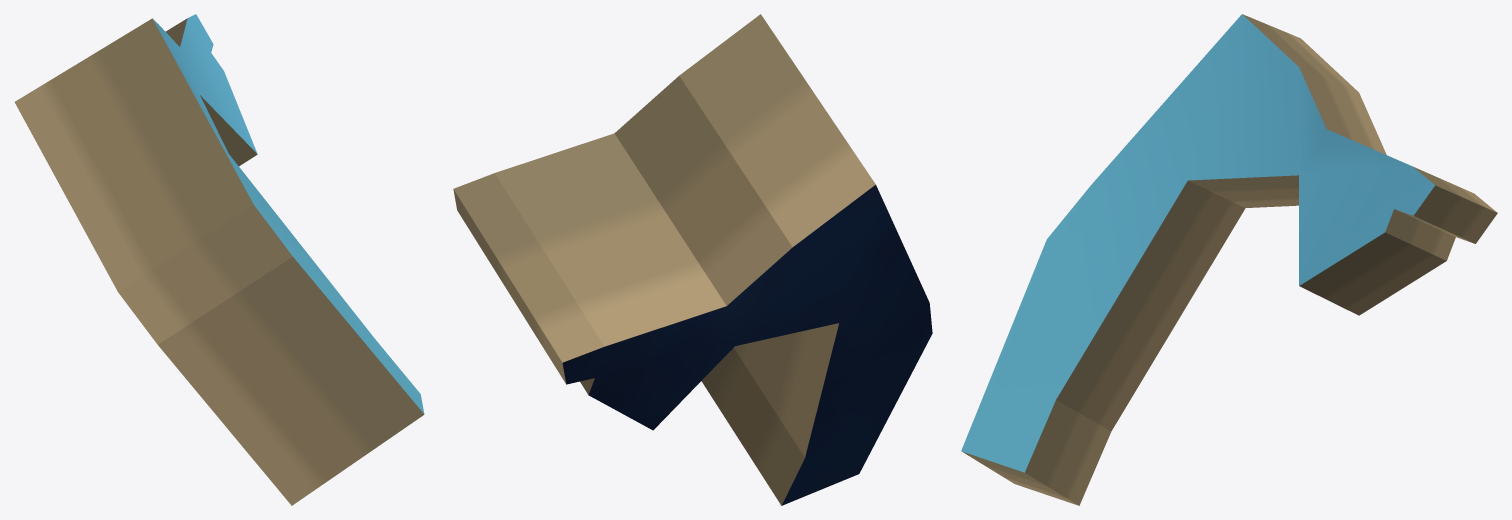
The model's file is 0615_Oman.glb.
The picture shows the model from 3 angles, left to right: view 1: azimuth 30°, elevation 25°; view 2: azimuth 150°, elevation 25°; view 3: azimuth 270°, elevation 25°; orthographic projection. The views are drawn at different scales.
Parts seen in each view (by area): view 1: part_0; view 2: part_0; view 3: part_0.
Boxes of the visible parts, x1,y1,x2,y2 form: part_0: [14, 14, 424, 505]; part_0: [453, 14, 932, 505]; part_0: [961, 14, 1497, 505].
Bounding box in the file's own units: 0.3951 × 0.5783 × 0.6113.
Materials: 1 (1 with a texture image).
